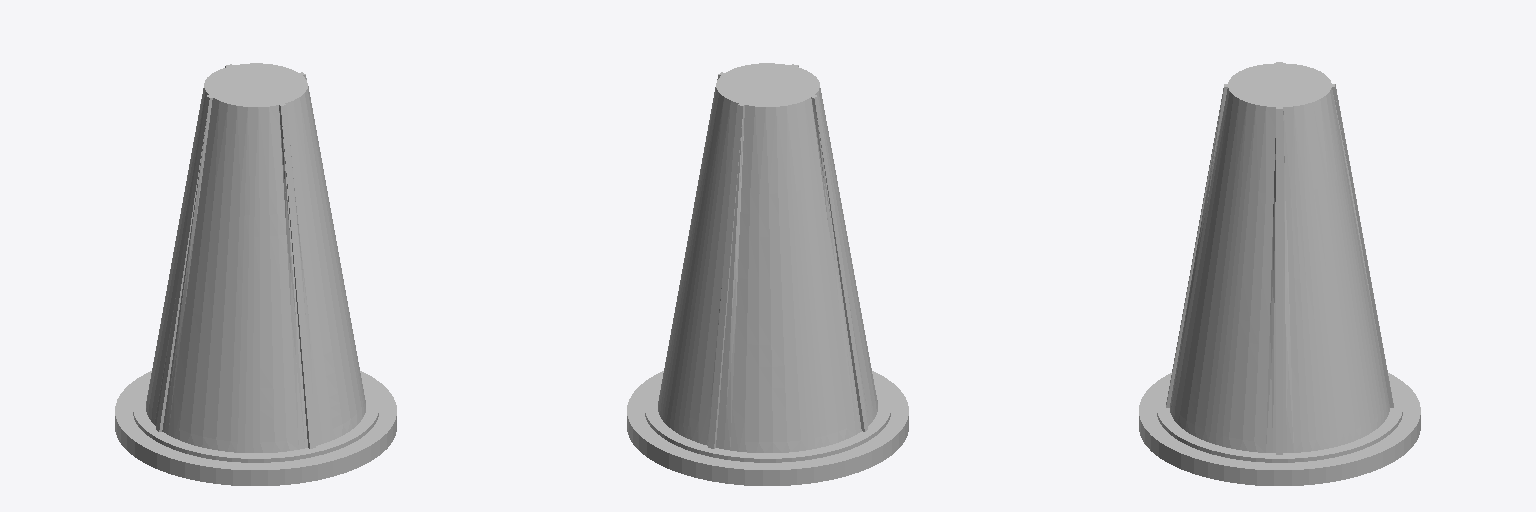
3 renders of one model, left to right at view 1: azimuth 30°, elevation 25°; view 2: azimuth 150°, elevation 25°; view 3: azimuth 270°, elevation 25°, orthographic.
Parts seen in each view (by area): view 1: Bryła1; view 2: Bryła1; view 3: Bryła1.
Boxes of the visible parts, x1,y1,x2,y2 form: Bryła1: [115, 63, 396, 485]; Bryła1: [627, 63, 908, 485]; Bryła1: [1139, 62, 1420, 485].
Bounding box in the file's own units: 406 × 542 × 406.